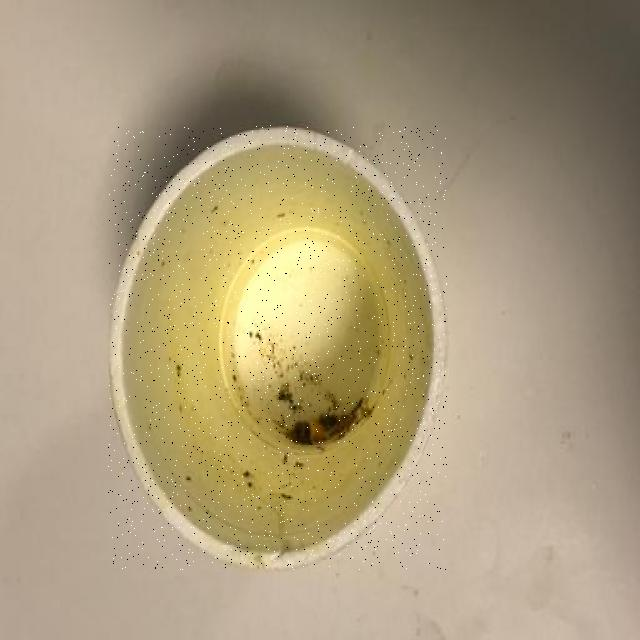plastic: (108, 125, 447, 570)
